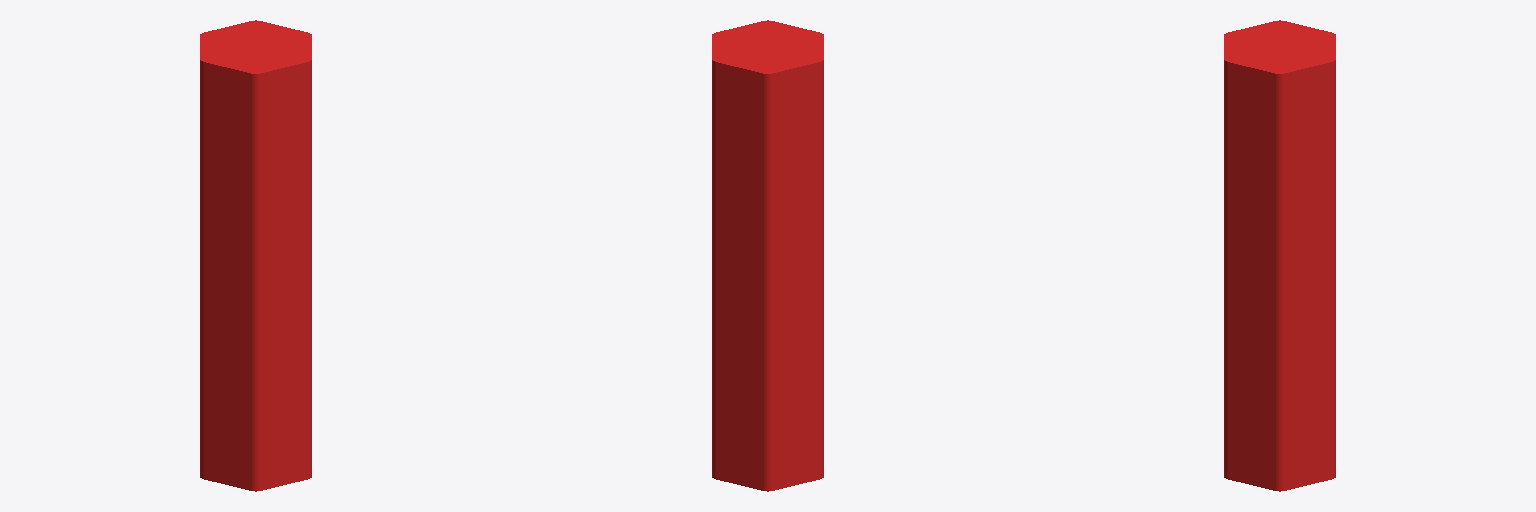
The robot description file, URDF, robot "peg_53_coacd":
<?xml version="1.0" encoding="utf-8"?>
<robot name="peg_53_coacd">
  <link name="base_link">
    <inertial>
      <mass value="0.05"/>
      <inertia ixx="1e-5" ixy="0" ixz="0" iyy="1e-5" iyz="0" izz="1e-5"/>
    </inertial>
  </link>
  <material name="color_0">
    <color rgba="0.9 0.2 0.2 1.0"/>
  </material>
  <link name="hull_0">
    <inertial>
      <mass value="0.001"/>
      <inertia ixx="1e-6" ixy="0" ixz="0" iyy="1e-6" iyz="0" izz="1e-6"/>
    </inertial>
    <visual>
      <origin xyz="0 0 0" rpy="0 0 0"/>
      <geometry>
        <mesh filename="decomp_0.obj" scale="1 1 1"/>
      </geometry>
      <material name="color_0"/>
    </visual>
    <collision>
      <origin xyz="0 0 0" rpy="0 0 0"/>
      <geometry>
        <mesh filename="decomp_0.obj" scale="1 1 1"/>
      </geometry>
    </collision>
  </link>
  <joint name="hull_joint_0" type="fixed">
    <parent link="base_link"/>
    <child link="hull_0"/>
    <origin xyz="0 0 0" rpy="0 0 0"/>
  </joint>
</robot>

--- Render facts (derived) ---
Views: 3 orthographic renders of the robot side by side, from view 1: azimuth 30°, elevation 25°; view 2: azimuth 150°, elevation 25°; view 3: azimuth 270°, elevation 25°.
Robot: peg_53_coacd — 2 links, 1 joints (1 fixed); root link base_link; default pose: every joint at zero.
Visible links, largest first — view 1: hull_0; view 2: hull_0; view 3: hull_0.
Boxes of the visible links, left/top/right/bottom form: hull_0: left=200, top=20, right=311, bottom=491; hull_0: left=712, top=20, right=823, bottom=491; hull_0: left=1224, top=20, right=1335, bottom=491.
Bounding box of the posed robot: 0.0413 × 0.0366 × 0.15 m (x, y, z).
1 mesh visuals loaded from 1 distinct referenced files (1 OBJ).
